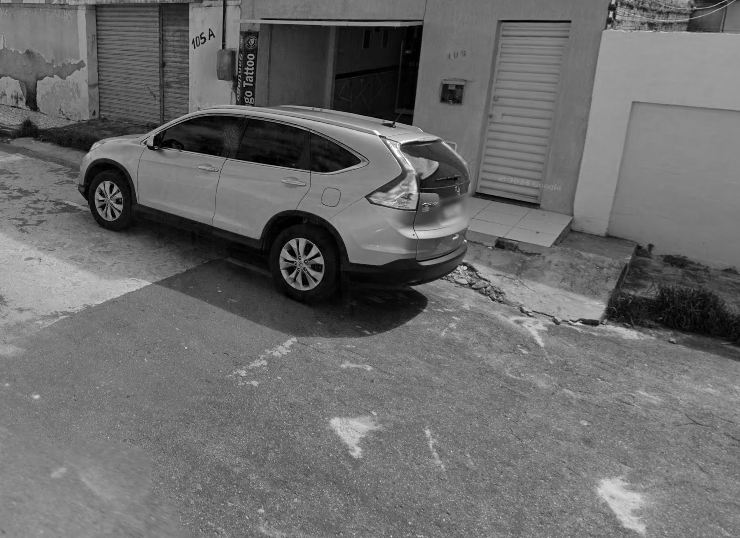car: (74, 93, 476, 306)
